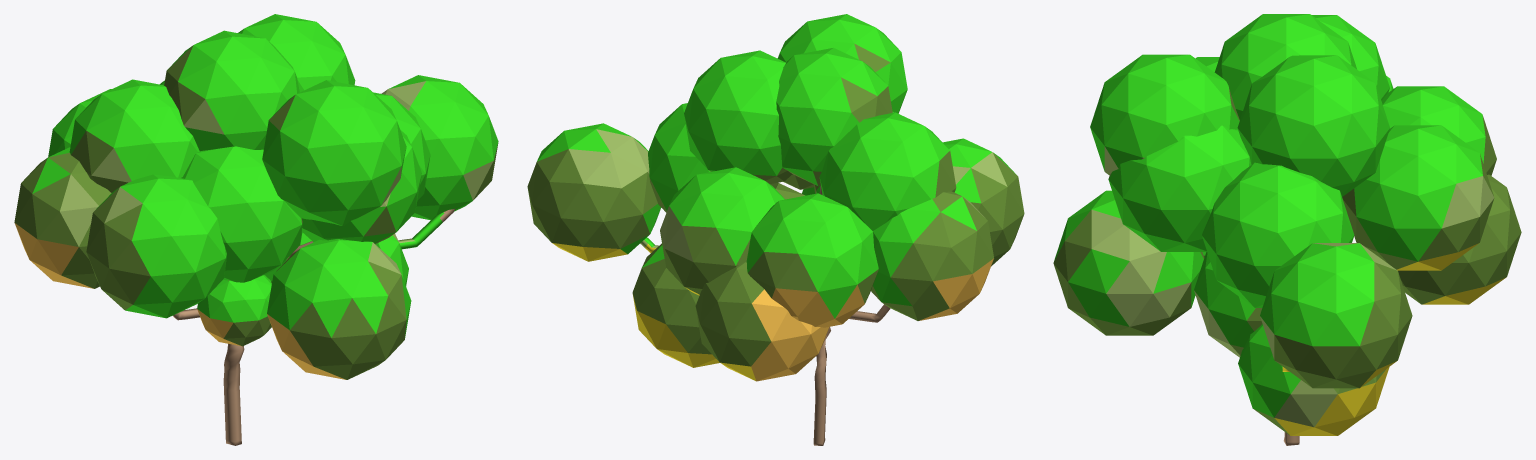
The model's file is tree-01.gltf.
The picture shows the model from 3 angles, left to right: view 1: azimuth 30°, elevation 25°; view 2: azimuth 150°, elevation 25°; view 3: azimuth 270°, elevation 25°; orthographic projection. The views are drawn at different scales.
Visible parts, largest first — view 1: tree; view 2: tree; view 3: tree.
Boxes of the visible parts, bbox=[...] form: tree: bbox=[14, 14, 498, 445]; tree: bbox=[527, 14, 1024, 445]; tree: bbox=[1053, 14, 1521, 445].
Size of the model in its own units: 17.02 by 14.34 by 14.35.
1 material, 1 textured.
